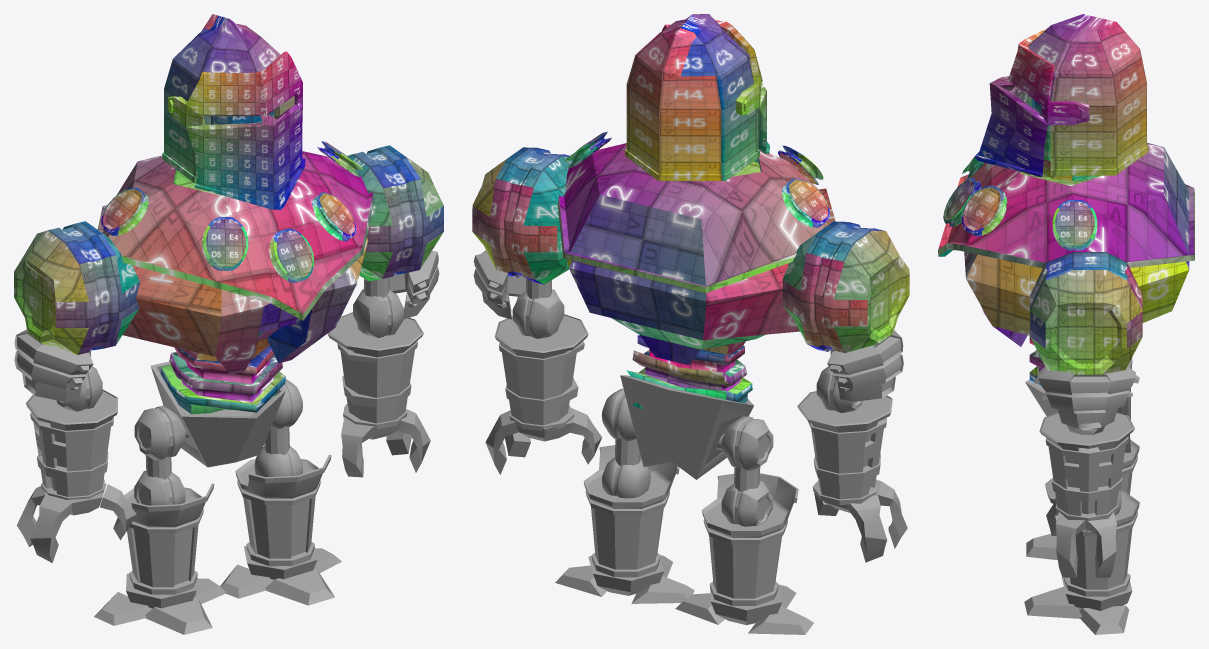
Rendered from Robot-8.fbx.
The picture shows the model from 3 angles, left to right: view 1: azimuth 30°, elevation 25°; view 2: azimuth 150°, elevation 25°; view 3: azimuth 270°, elevation 25°; orthographic projection. The views are drawn at different scales.
Visible parts, largest first — view 1: polySurface44, polySurface80, polySurface47, polySurface28, polySurface72, polySurface24, polySurface69, polySurface81, polySurface23, polySurface75, polySurface17, polySurface12 (+24 smaller); view 2: polySurface44, polySurface81, polySurface47, polySurface28, polySurface72, polySurface12, polySurface75, polySurface24, polySurface69, polySurface23, polySurface17, polySurface74 (+21 smaller); view 3: polySurface44, polySurface81, polySurface72, polySurface80, polySurface47, polySurface24, polySurface73, polySurface23, pSphere2, pSphere5, polySurface58, polySurface57 (+9 smaller).
Part boxes in pixels (x1,y1,x2,y2): polySurface44: [97, 151, 374, 320]; polySurface80: [167, 51, 305, 209]; polySurface47: [122, 170, 367, 374]; polySurface28: [14, 221, 139, 354]; polySurface72: [347, 145, 443, 281]; polySurface24: [327, 312, 423, 429]; polySurface69: [26, 389, 117, 499]; polySurface81: [162, 14, 294, 183]; polySurface23: [235, 454, 331, 566]; polySurface75: [124, 483, 214, 594]; polySurface17: [160, 338, 285, 414]; polySurface12: [150, 361, 285, 467]; polySurface44: [557, 143, 835, 293]; polySurface81: [625, 14, 759, 180]; polySurface47: [567, 161, 799, 364]; polySurface28: [782, 221, 909, 352]; polySurface72: [472, 147, 572, 284]; polySurface12: [620, 375, 753, 479]; polySurface75: [702, 473, 798, 605]; polySurface24: [494, 314, 588, 431]; polySurface69: [797, 391, 892, 505]; polySurface23: [583, 445, 679, 577]; polySurface17: [626, 335, 752, 409]; polySurface74: [827, 330, 903, 401]; polySurface44: [938, 142, 1194, 268]; polySurface81: [1028, 14, 1148, 175]; polySurface72: [1030, 252, 1142, 374]; polySurface80: [974, 28, 1089, 177]; polySurface47: [964, 172, 1189, 346]; polySurface24: [1039, 412, 1134, 522]; polySurface73: [1034, 366, 1139, 428]; polySurface23: [1045, 478, 1139, 596]; pSphere2: [1052, 199, 1097, 250]; pSphere5: [961, 185, 1007, 236]; polySurface58: [1055, 513, 1085, 577]; polySurface57: [1086, 513, 1116, 577].
Bounding box in the file's own units: 14.64 × 19.76 × 8.09.
2 materials, 1 textured.
